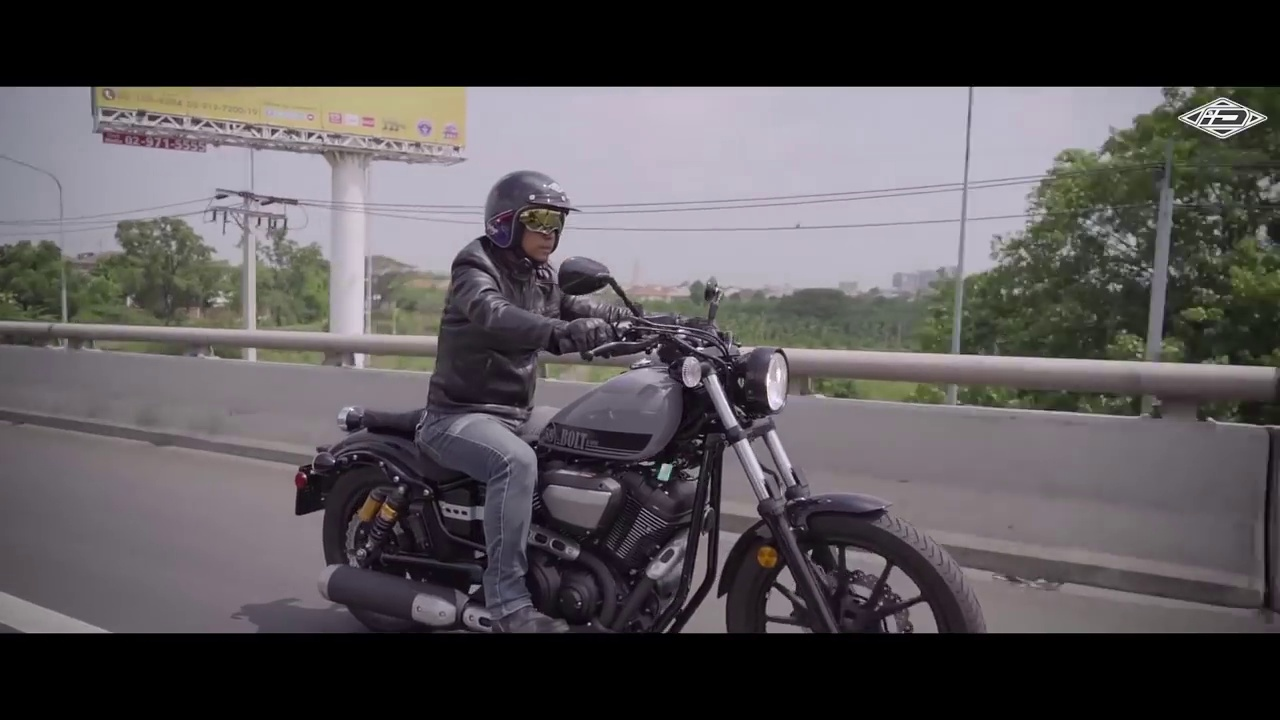helmet: (481, 162, 580, 242)
